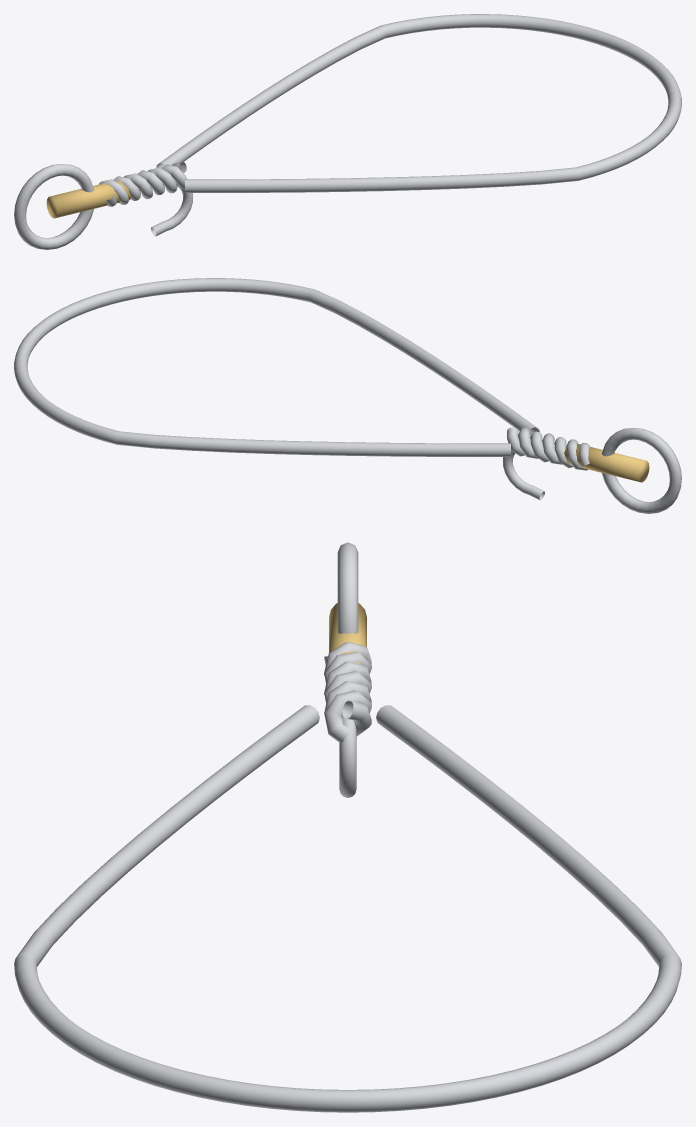
The model's file is fish_clasp.glb.
3 renders of one model, top to bottom at view 1: azimuth 30°, elevation 25°; view 2: azimuth 150°, elevation 25°; view 3: azimuth 270°, elevation 25°, orthographic. The views are drawn at different scales.
Visible parts, largest first — view 1: loop; view 2: loop; view 3: loop.
Boxes of the visible parts, <box> form: loop: <box>14,14,681,249</box>; loop: <box>14,278,681,513</box>; loop: <box>14,542,681,1112</box>.
Size of the model in its own units: 0.3 by 0.0428 by 0.163.
